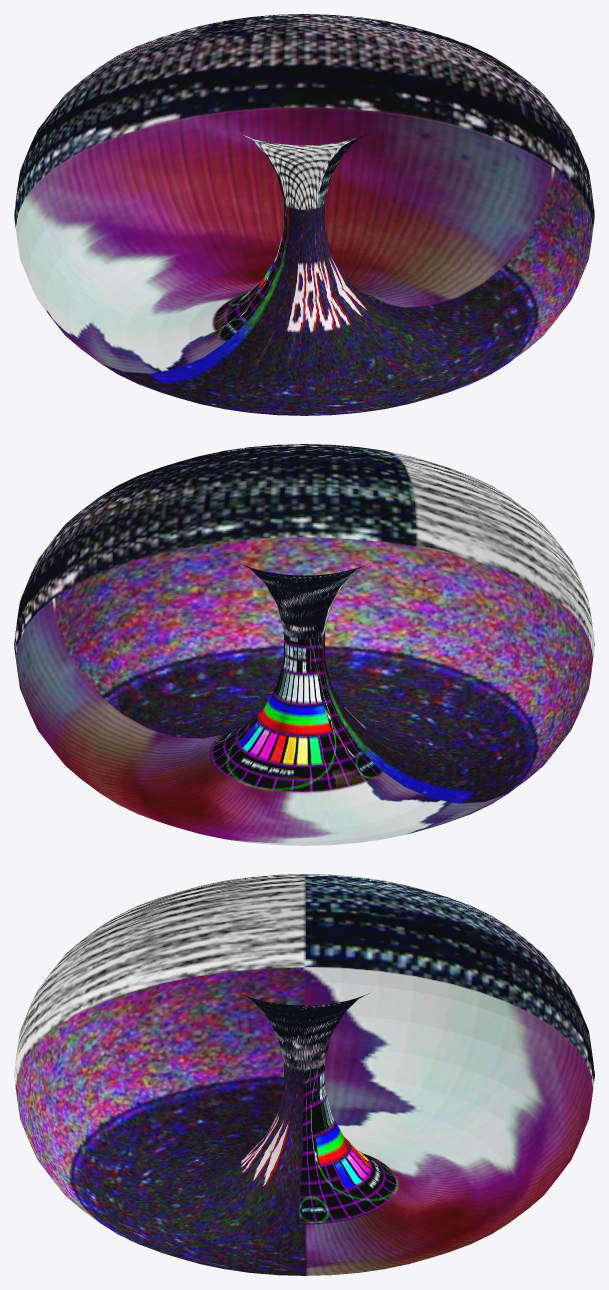
Rendered from 02_torus_inside_03.glb.
3 views of the same model, one above another, from view 1: azimuth 30°, elevation 25°; view 2: azimuth 150°, elevation 25°; view 3: azimuth 270°, elevation 25° (orthographic).
Visible parts, largest first — view 1: Torus.inside; view 2: Torus.inside; view 3: Torus.inside.
Part boxes in pixels (left/top/right/bottom): Torus.inside: left=14, top=14, right=594, bottom=415; Torus.inside: left=14, top=444, right=594, bottom=845; Torus.inside: left=14, top=874, right=594, bottom=1275.
Size of the model in its own units: 31.3 by 14.57 by 31.3.
1 material, 1 textured.
